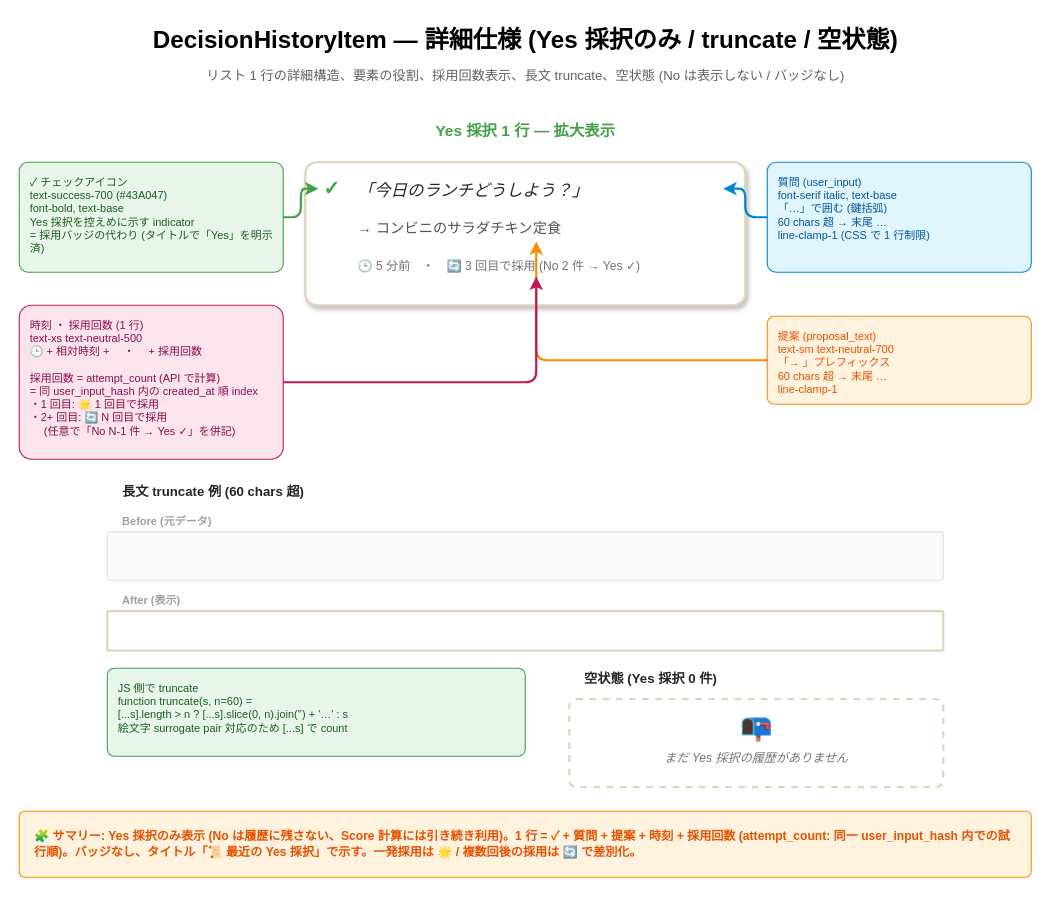
The diagram is 1051 pixels wide and 897 high, and some of its shapes have lost their labels. The centre of each missing label's shape, as x and y in pixels:
"user_input = 「来週末の友達の結婚式の二次会で着る服が決まらないんですけど、ジャケットスタイルとカジュアルどっちが…」" goes at [524,555].
"「来週末の友達の結婚式の二次会で着る服が決まらないんですけど、ジャケットスタイル…」" goes at [525,630].
